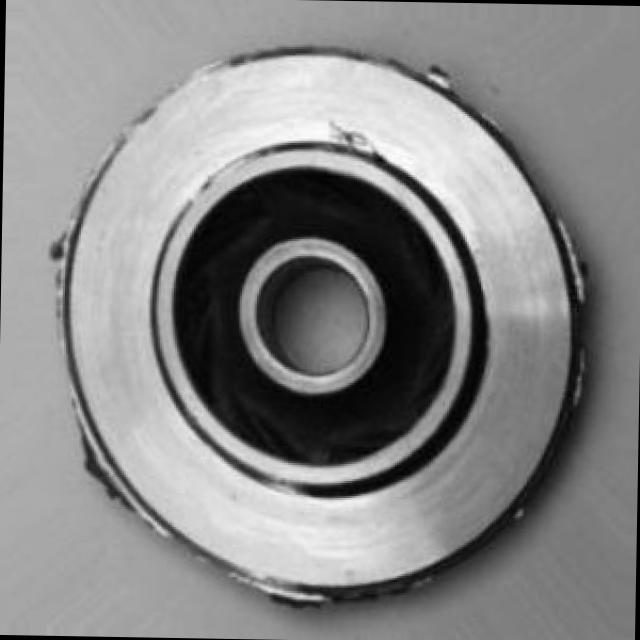Defect: (76, 451, 134, 506), (324, 114, 374, 160)
